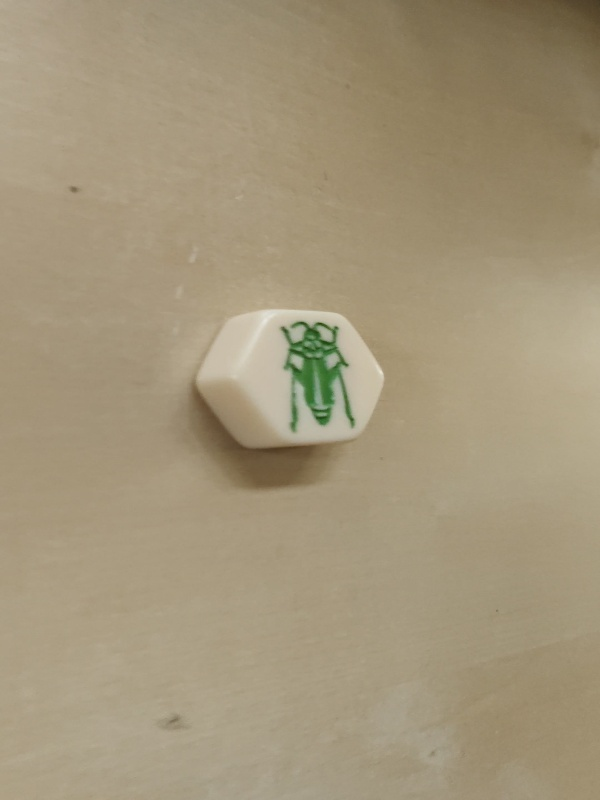white_grasshopper: (193, 308, 389, 454)
